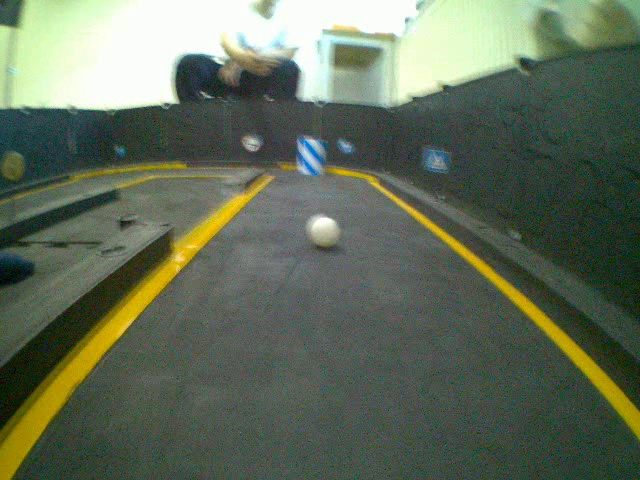ball: (305, 214, 341, 249)
bucket: (295, 134, 329, 179)
